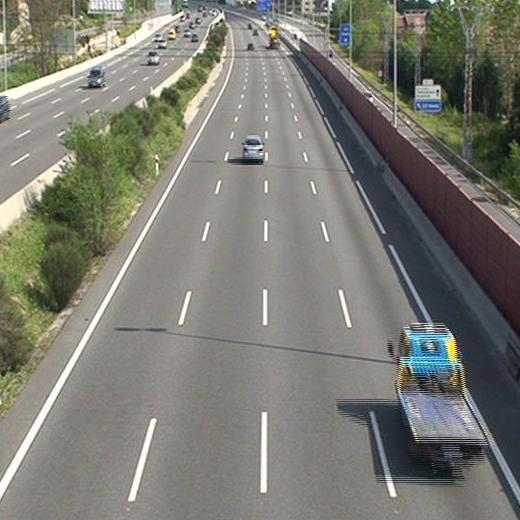car: (241, 137, 265, 161)
small-truck: (388, 324, 491, 463)
